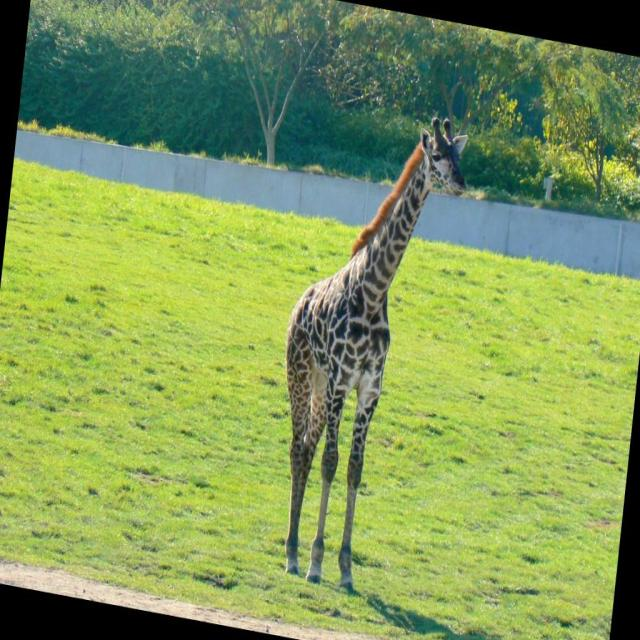Giraffe: (267, 103, 473, 596)
